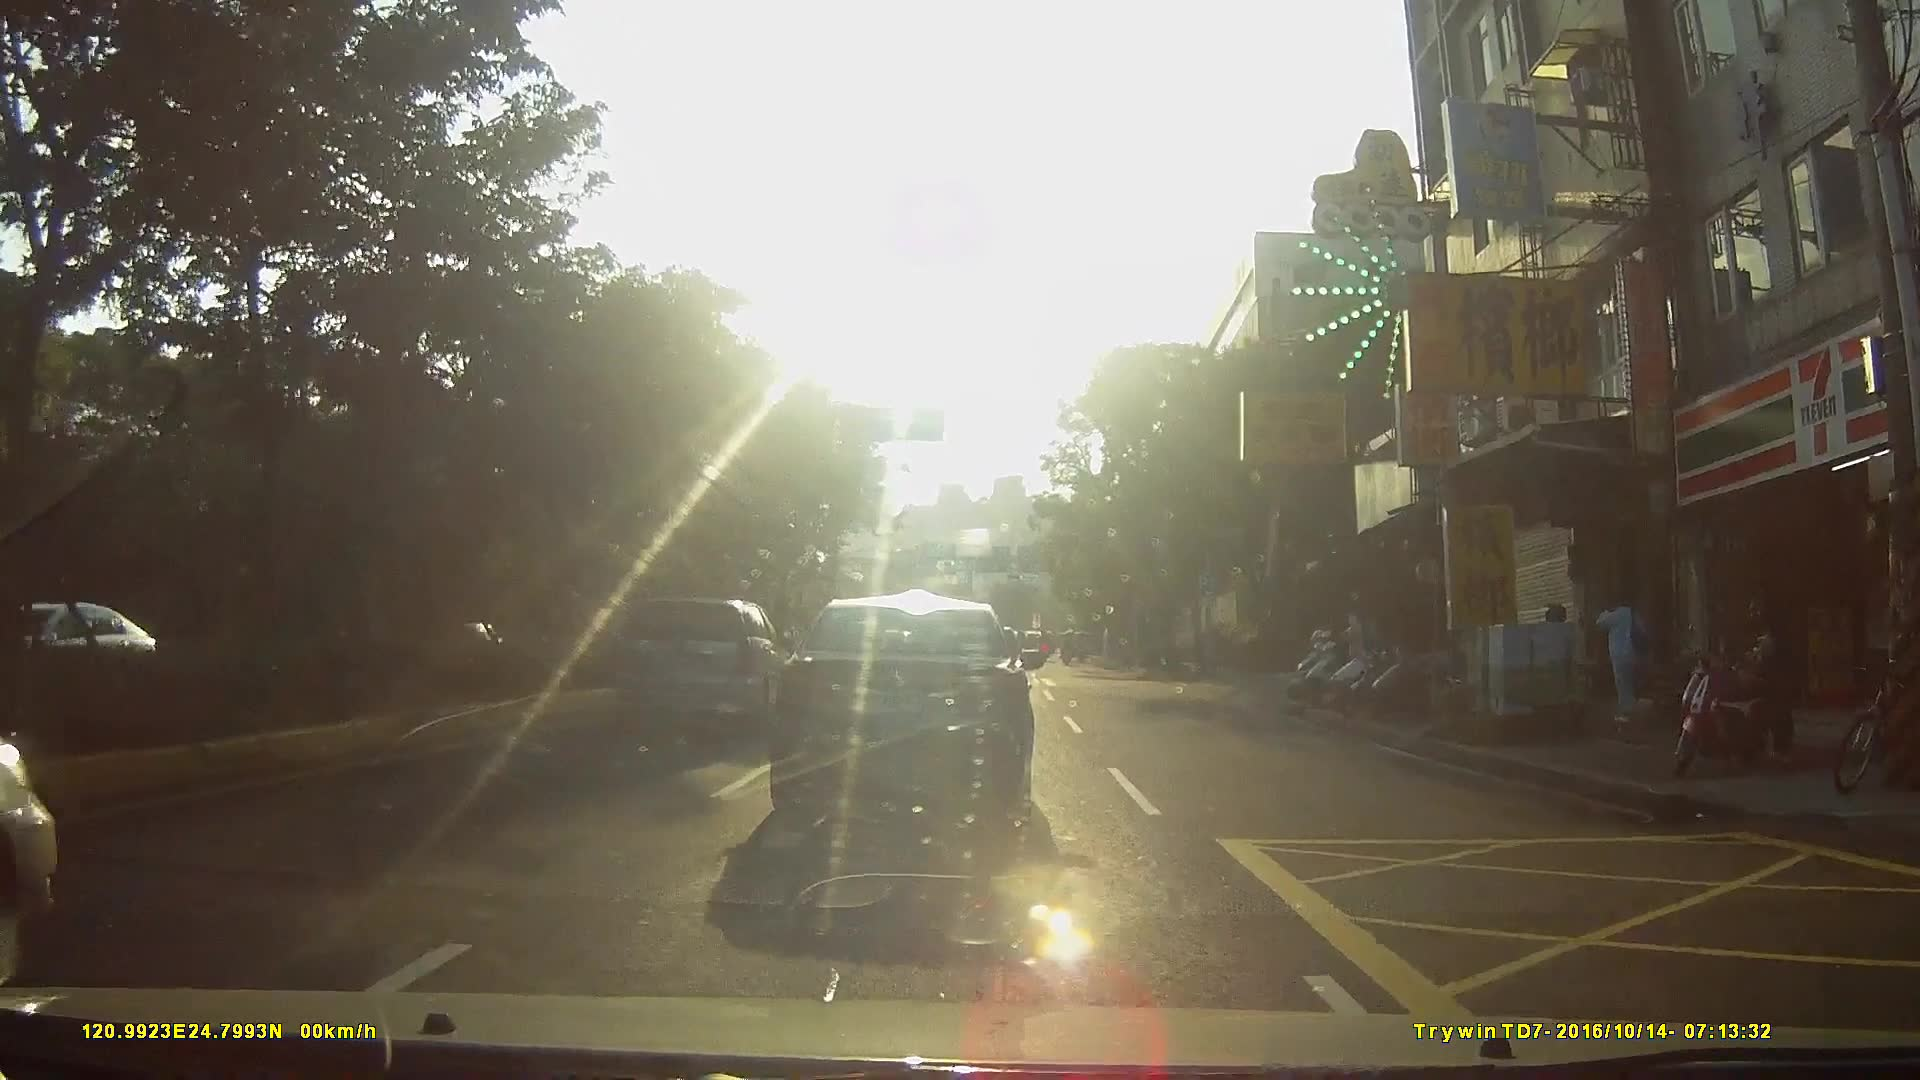pedestrian: (1747, 615, 1802, 775), (1595, 591, 1660, 727)
vehicle: (774, 586, 1063, 837), (0, 688, 136, 993), (617, 596, 796, 729), (6, 598, 162, 699)
